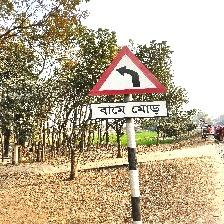Left-Turn: (89, 47, 171, 121)
